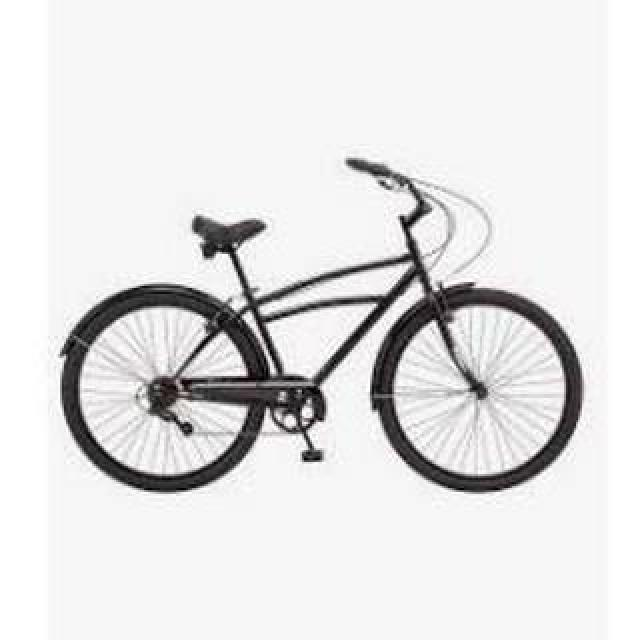Person: (59, 160, 587, 494)
